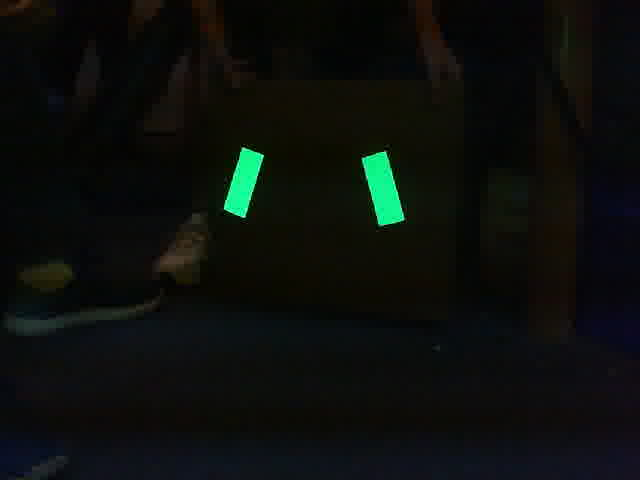target: (223, 144, 406, 229)
